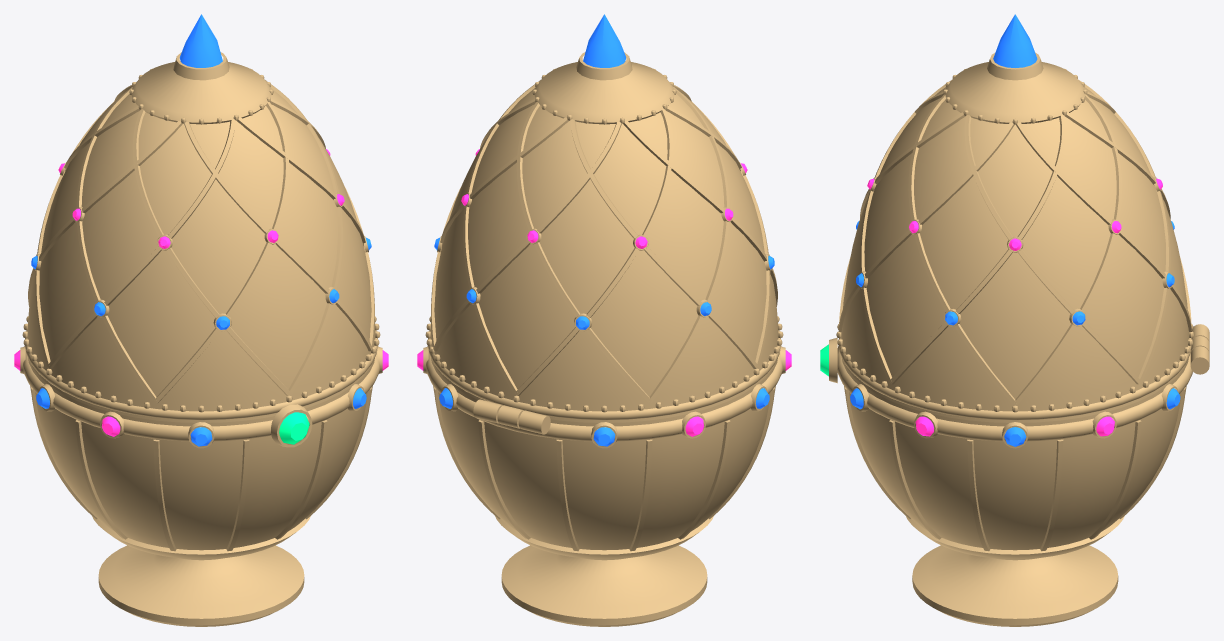
File: egg.glb
The picture shows the model from 3 angles, left to right: view 1: azimuth 30°, elevation 25°; view 2: azimuth 150°, elevation 25°; view 3: azimuth 270°, elevation 25°; orthographic projection.
Visible parts, largest first — view 1: lid, shell; view 2: lid, shell; view 3: lid, shell.
Boxes of the visible parts, <box> form: lid: <box>22,14,380,422</box>; shell: <box>14,346,388,626</box>; lid: <box>425,14,783,428</box>; shell: <box>417,346,791,626</box>; lid: <box>836,14,1209,422</box>; shell: <box>820,324,1209,626</box>.
Size of the model in its own units: 0.4295 by 0.7244 by 0.4467.
